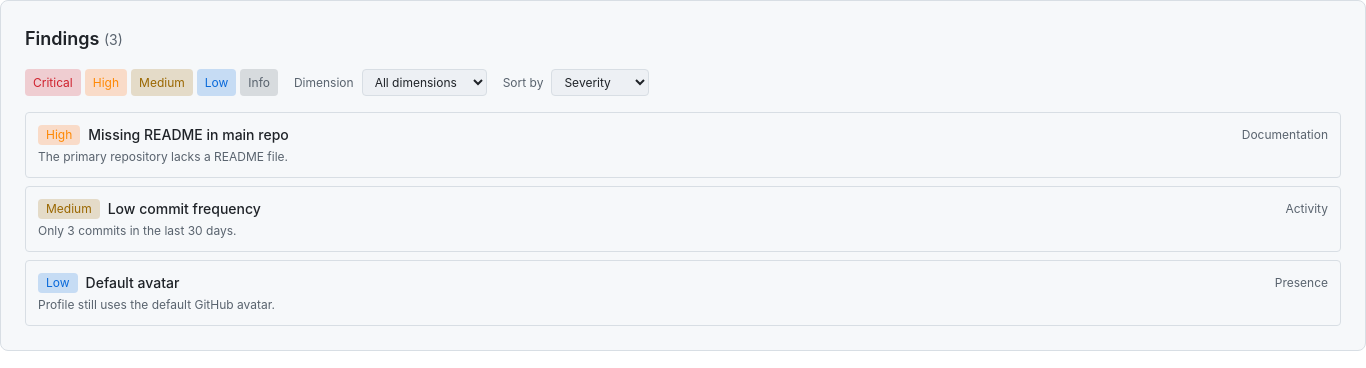
Test: FindingsList › filters by dimension dropdown
Select "Activity" in the dropdown labelled "Dimension": (424, 82) [362, 69, 487, 96]
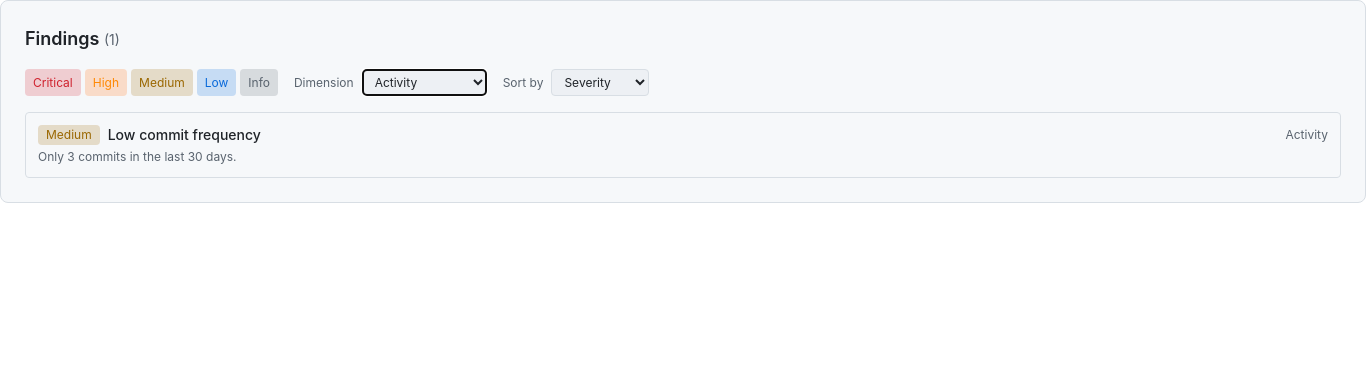
Expected: the text "Low commit frequency" is shown, [108, 125, 261, 145]
Expected: the text "Missing README in main repo" is gone
